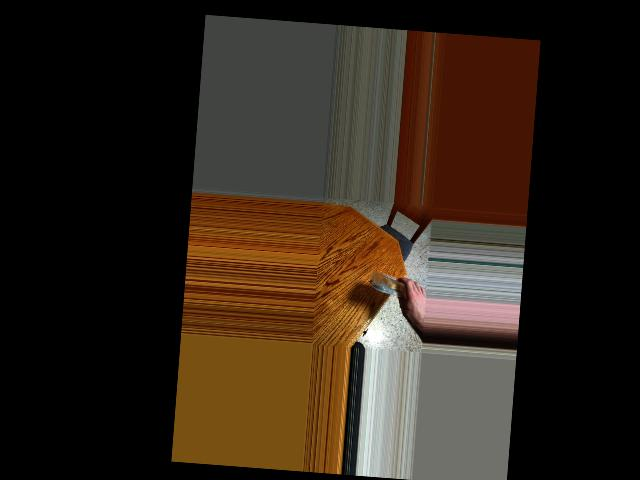cheese: (372, 271, 407, 304)
